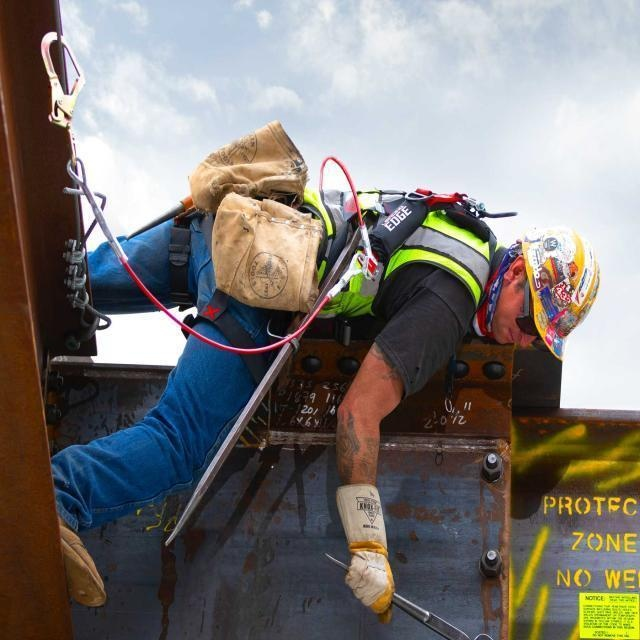Arnes_seguridad: (314, 176, 503, 264)
